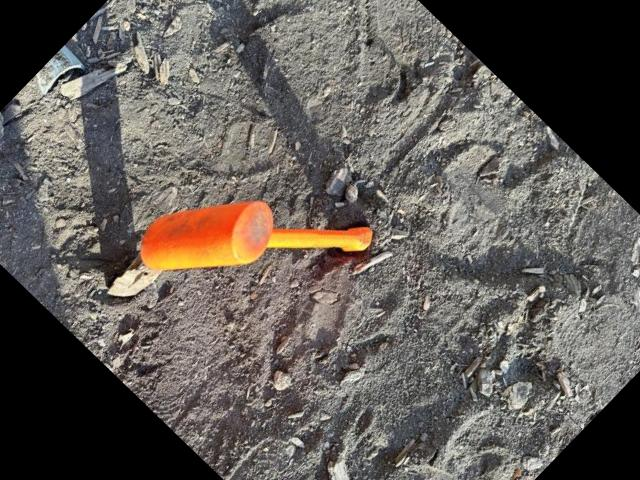hammer: (127, 117, 378, 368)
